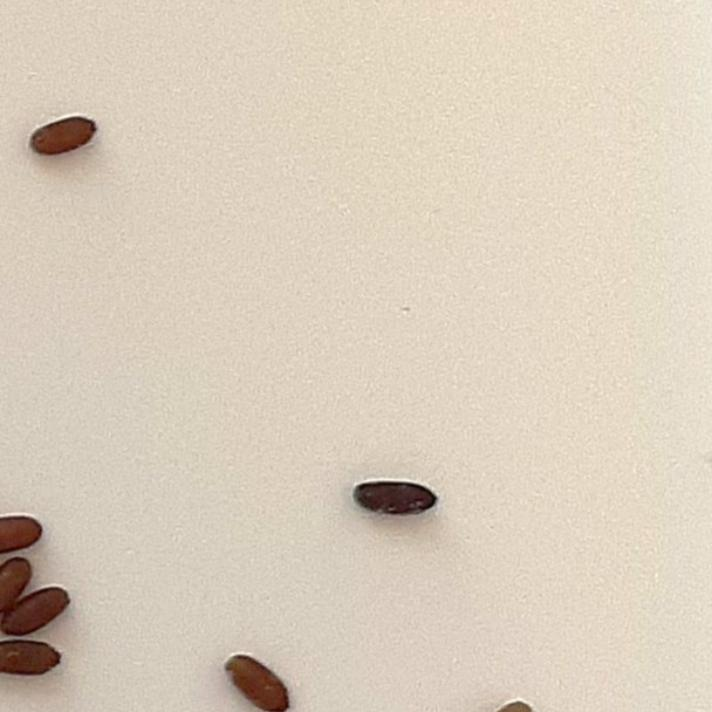pupae: (216, 646, 296, 712), (1, 582, 76, 640), (349, 475, 441, 519), (23, 111, 101, 161), (0, 640, 66, 682), (0, 507, 44, 551), (0, 555, 36, 605)
